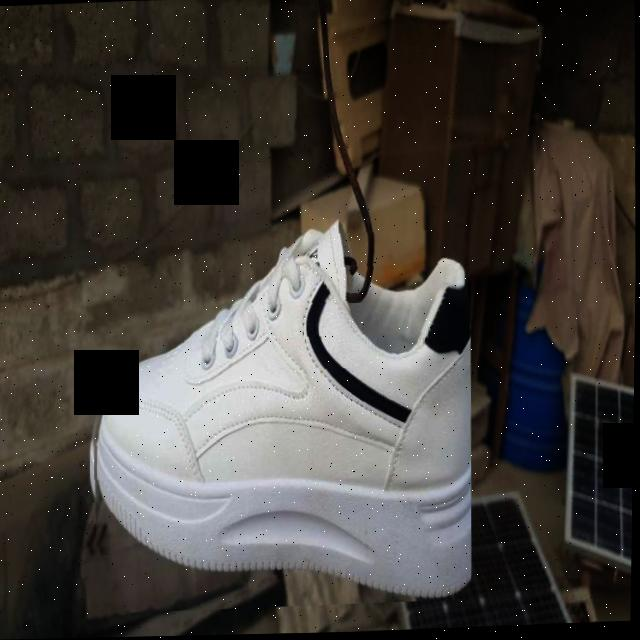shoe: (82, 213, 477, 614)
